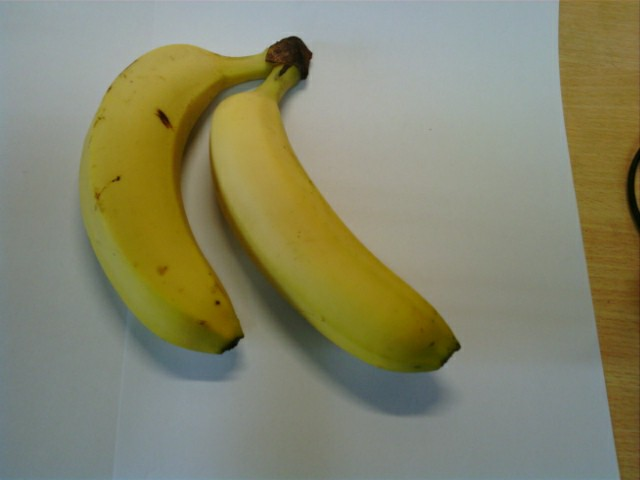fresh_banana: (210, 75, 462, 374)
normal_banana: (79, 44, 236, 350)
